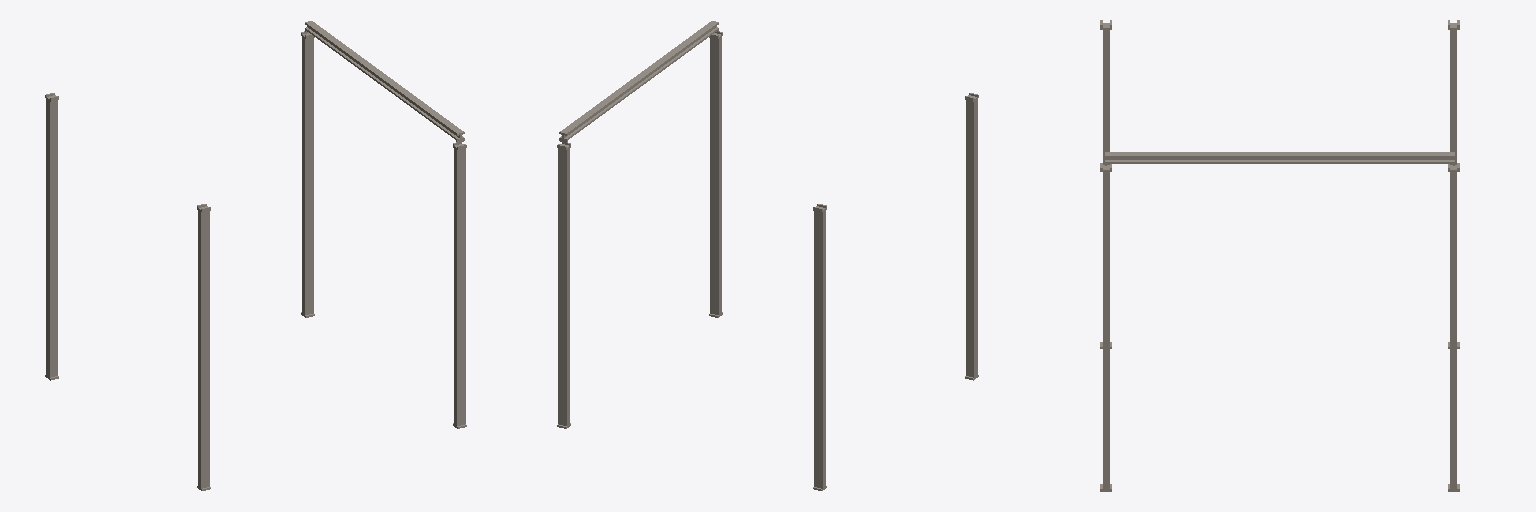
The robot description file, URDF, robot "solidworks2ros_try13":
<?xml version="1.0" encoding="utf-8"?>
<!-- This URDF was automatically created by SolidWorks to URDF Exporter! Originally created by [author] ([email redacted]) 
     Commit Version: 1.6.0-4-g7f85cfe  Build Version: 1.6.7995.38578
     For more information, please see http://wiki.ros.org/sw_urdf_exporter -->
<robot name="solidworks2ros_try13">
  
  <link name="dummy"> 
  </link>

  <joint name="dummy_joint" type="fixed">
     <parent link="dummy"/>
     <child link="base_link"/>
  </joint>

  <link name="base_link">
    <inertial>
      <origin
        xyz="-1.8415 1.8923 1.9388"
        rpy="0 0 0" />
      <mass
        value="1189.8" />
      <inertia
        ixx="1516.6"
        ixy="-1.4201E-16"
        ixz="3.7348E-15"
        iyy="1517.6"
        iyz="1.5653E-13"
        izz="2.2082" />
    </inertial>
    <visual>
      <origin
        xyz="0 0 0"
        rpy="0 0 0" />
      <geometry>
        <mesh
          filename="package://solidworks2ros_try13/meshes/base_link.STL" />
      </geometry>
      <material
        name="">
        <color
          rgba="0.65098 0.61961 0.58824 1" />
      </material>
    </visual>
    <collision>
      <origin
        xyz="0 0 0"
        rpy="0 0 0" />
      <geometry>
        <mesh
          filename="package://solidworks2ros_try13/meshes/base_link.STL" />
      </geometry>
    </collision>
  </link>

  <link name="fixed_link1">
    <inertial>
      <origin
        xyz="-1.905 1.8923 -0.010583"
        rpy="0 0 0" />
      <mass
        value="463.57" />
      <inertia
        ixx="0.77054"
        ixy="8.9619E-16"
        ixz="1.1939E-15"
        iyy="560.97"
        iyz="2.4877E-16"
        izz="561.34" />
    </inertial>
    <visual>
      <origin
        xyz="0 0 0"
        rpy="0 0 0" />
      <geometry>
        <mesh
          filename="package://solidworks2ros_try13/meshes/fixed_link1.STL" />
      </geometry>
      <material
        name="">
        <color
          rgba="0.65098 0.61961 0.58824 1" />
      </material>
    </visual>
    <collision>
      <origin
        xyz="0 0 0"
        rpy="0 0 0" />
      <geometry>
        <mesh
          filename="package://solidworks2ros_try13/meshes/fixed_link1.STL" />
      </geometry>
    </collision>
  </link>
  
  <joint
    name="fixed_joint1"
    type="fixed">
    <origin
      xyz="0.0635 0 3.9116"
      rpy="0 0 0" />
    <parent
      link="base_link" />
    <child
      link="fixed_link1" />
    <axis
      xyz="0 0 0" />
  </joint>

  <link name="link_1">
    <inertial>
      <origin
        xyz="-0.0508 1.8923 0.075863"
        rpy="0 0 0" />
      <mass
        value="19.418" />
      <inertia
        ixx="237.59"
        ixy="2.0843E-16"
        ixz="-4.0205E-18"
        iyy="0.381"
        iyz="6.3902E-14"
        izz="237.48" />
    </inertial>
    <visual>
      <origin
        xyz="0 0 0"
        rpy="0 0 0" />
      <geometry>
        <mesh
          filename="package://solidworks2ros_try13/meshes/link_1.STL" />
      </geometry>
      <material
        name="">
        <color
          rgba="0.65098 0.61961 0.58824 1" />
      </material>
    </visual>
    <collision>
      <origin
        xyz="0 0 0"
        rpy="0 0 0" />
      <geometry>
        <mesh
          filename="package://solidworks2ros_try13/meshes/link_1.STL" />
      </geometry>
    </collision>
  </link>
  
  <joint name="joint_1"
    type="prismatic">
    <origin
      xyz="0 0 0"
      rpy="0 0 0" />
    <parent
      link="fixed_link1" />
    <child
      link="link_1" />
    <axis
      xyz="-1 0 0" />
    <limit
      lower="0"
      upper="3.5"
      effort="10"
      velocity="0.5" />
  </joint>

  <link name="link_2">
    <inertial>
      <origin
        xyz="0.0127 0.0635 -0.15487"
        rpy="0 0 0" />
      <mass
        value="19.999" />
      <inertia
        ixx="6.1138"
        ixy="-1.1592E-16"
        ixz="-3.0278E-15"
        iyy="12.79"
        iyz="-1.015E-16"
        izz="7.2159" />
    </inertial>
    <visual>
      <origin
        xyz="0 0 0"
        rpy="0 0 0" />
      <geometry>
        <mesh
          filename="package://solidworks2ros_try13/meshes/link_2.STL" />
      </geometry>
      <material
        name="">
        <color
          rgba="0.65098 0.61961 0.58824 1" />
      </material>
    </visual>
    <collision>
      <origin
        xyz="0 0 0"
        rpy="0 0 0" />
      <geometry>
        <mesh
          filename="package://solidworks2ros_try13/meshes/link_2.STL" />
      </geometry>
    </collision>
  </link>

  <joint name="joint_2"
    type="prismatic">
    <origin
      xyz="-0.0635 0.0635 0.0762"
      rpy="0 0 0" />
    <parent
      link="link_1" />
    <child
      link="link_2" />
    <axis
      xyz="0 1 0" />
    <limit
      lower="0"
      upper="3.5"
      effort="10"
      velocity="0.5" />
  </joint>

  <!-- Position Contoller -->
<transmission name ="trans_1">
    <type>transmission_interface/SimpleTransmission</type>
    <joint name="joint_1">
        <hardwareInterface>hardware_interface/PositionJointInterface</hardwareInterface>
    </joint>
    <actuator name="motor_1">
        <hardwareInterface>hardware_interface/PositionJointInterface</hardwareInterface>
        <mechanicalReduction>1</mechanicalReduction>
    </actuator>
</transmission>

<transmission name ="trans_2">
    <type>transmission_interface/SimpleTransmission</type>
    <joint name="joint_2">
        <hardwareInterface>hardware_interface/PositionJointInterface</hardwareInterface>
    </joint>
    <actuator name="motor_2">
        <hardwareInterface>hardware_interface/PositionJointInterface</hardwareInterface>
        <mechanicalReduction>1</mechanicalReduction>
    </actuator>
</transmission>

<!-- Gazebo controller -->
<gazebo>
    <plugin name="control" filename="libgazebo_ros_control.so"/>
</gazebo>

<!-- Gazebo plugin: make base_link static, this makes the base_link fixed to the world in Gazebo -->
<gazebo reference="base_link">
  <static>true</static>  
</gazebo>

<!-- Gazebo visual interface for the links-->
<gazebo reference="base_link">
    <material>Gazebo/Gray</material>
</gazebo>

<gazebo reference="fixed_link1">
    <material>Gazebo/Green</material>
</gazebo>

<gazebo reference="link_1">
    <material>Gazebo/Orange</material>
</gazebo>

<gazebo reference="link_2">
    <material>Gazebo/Red</material>
</gazebo>

</robot>

--- Render facts (derived) ---
The picture shows the robot from 3 angles, left to right: view 1: azimuth 30°, elevation 25°; view 2: azimuth 150°, elevation 25°; view 3: azimuth 270°, elevation 25°; orthographic projection.
Robot: solidworks2ros_try13 — 5 links, 4 joints (2 prismatic, 2 fixed); root link dummy; default pose: every joint at zero.
Visible links, largest first — view 1: base_link, link_1; view 2: base_link, link_1; view 3: base_link, link_1.
Boxes of the visible links, box(x1,y1,x2,y2) form: base_link: box(45, 31, 466, 490); link_1: box(305, 21, 464, 142); base_link: box(557, 31, 978, 490); link_1: box(559, 21, 718, 142); base_link: box(1100, 20, 1459, 491); link_1: box(1105, 152, 1454, 165).
Bounding box of the posed robot: 3.81 × 3.91 × 4.04 m (x, y, z).
2 mesh visuals loaded from 4 distinct referenced files (2 binary STL); not drawn: 2 (reference not matched to a file when rendering).
